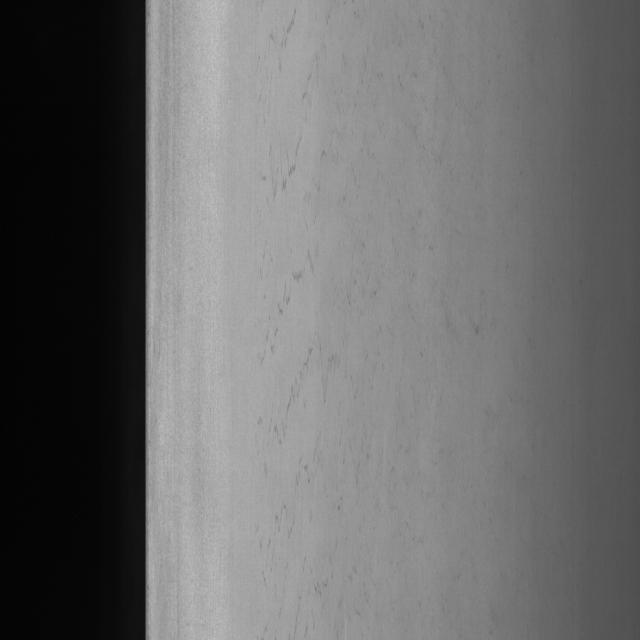inclusion: (250, 26, 366, 465)
